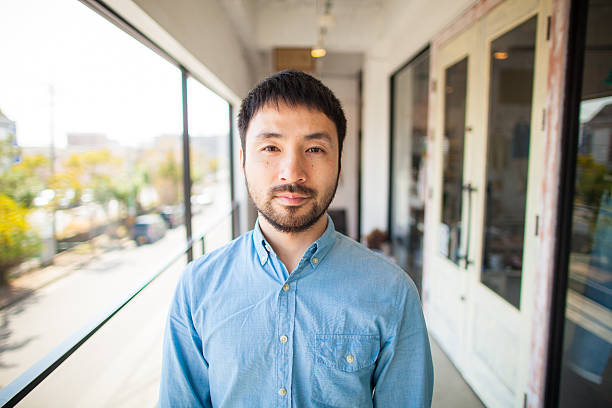person: (236, 70, 347, 238)
